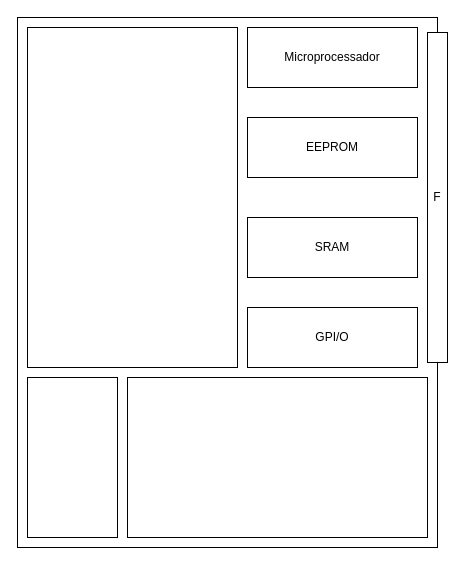
This 465x565 diagram has some shape labels left out. The box of each missing label's shape, as (x1, y1, x2, y2) in pixels:
Fonte de Alimentação: (26, 376, 118, 538)
LCD 16x2: (126, 376, 428, 538)
Portas Lógicas: (26, 26, 238, 368)
